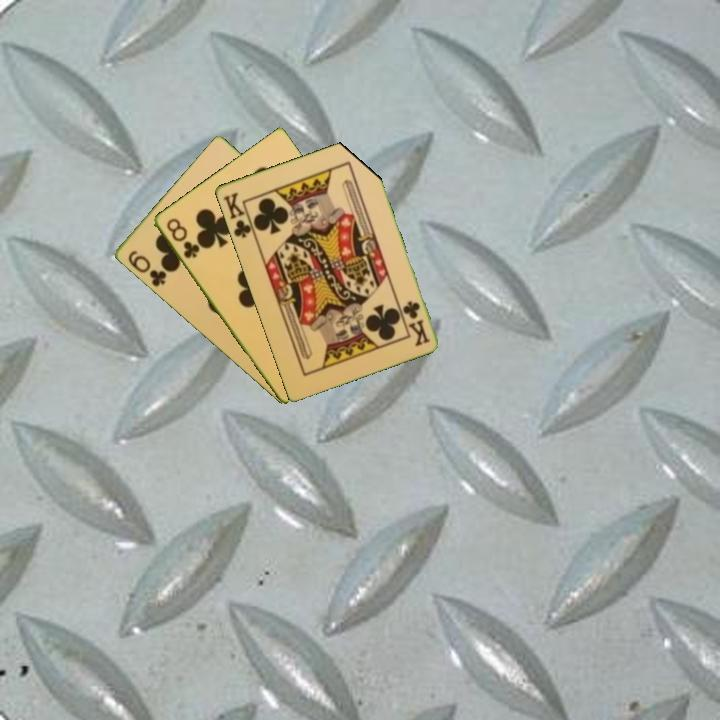6c: (124, 247, 169, 290)
8c: (162, 214, 202, 262)
Kc: (219, 188, 257, 241), (399, 297, 433, 349)
